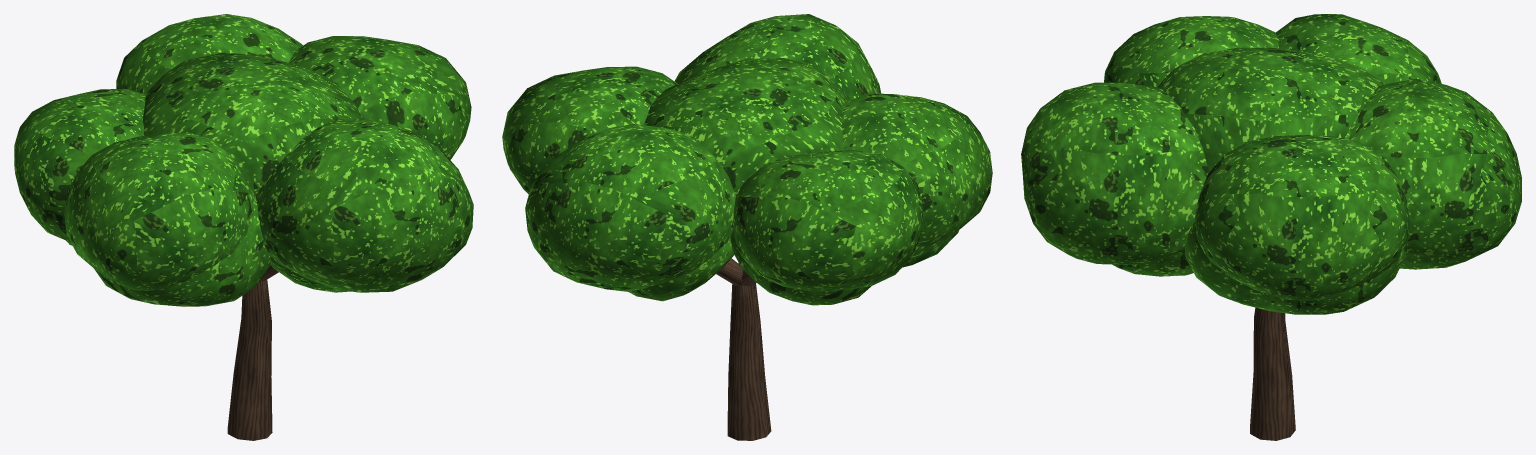
The model's file is Encino.obj.
3 renders of one model, left to right at view 1: azimuth 30°, elevation 25°; view 2: azimuth 150°, elevation 25°; view 3: azimuth 270°, elevation 25°, orthographic. The views are drawn at different scales.
Visible parts, largest first — view 1: Encino; view 2: Encino; view 3: Encino.
Part boxes in pixels (x1,y1,x2,y2): Encino: (14,14,473,440); Encino: (502,14,992,440); Encino: (1021,14,1521,440).
Bounding box in the file's own units: 8.04 × 6.54 × 8.05.
2 materials, 2 textured.
